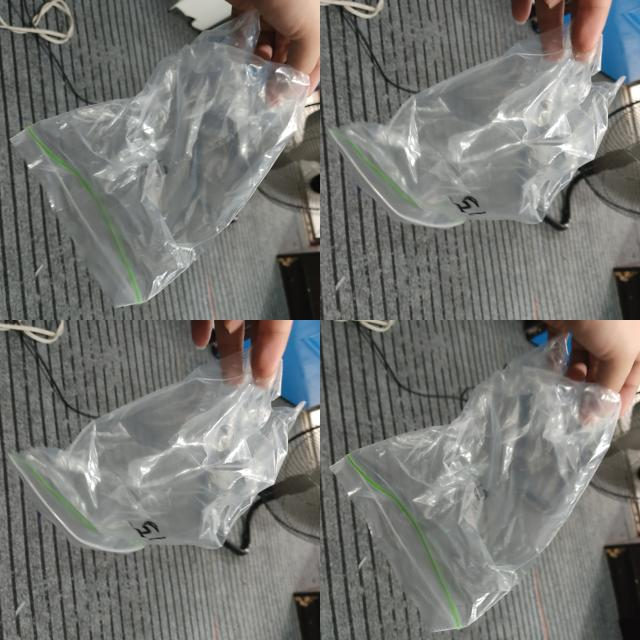Single-layer Plastic: (11, 12, 309, 308), (331, 335, 621, 631), (330, 26, 624, 228), (9, 351, 302, 552)
